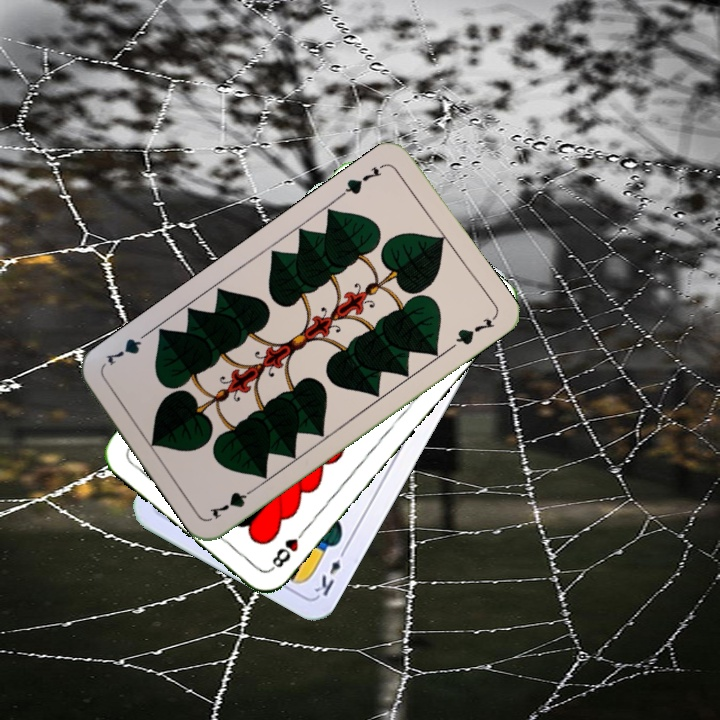EK: (310, 543, 350, 599)
G7: (205, 482, 261, 522), (336, 160, 388, 200)
H8: (266, 523, 309, 573)
